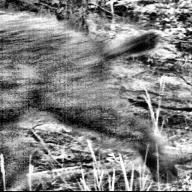boar: (0, 11, 175, 191)
